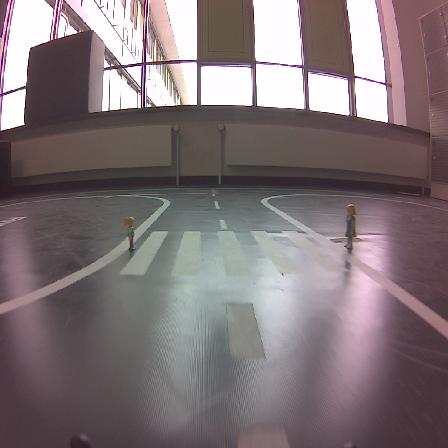CHILD: (124, 217, 134, 250)
PERSON: (345, 204, 355, 250)
